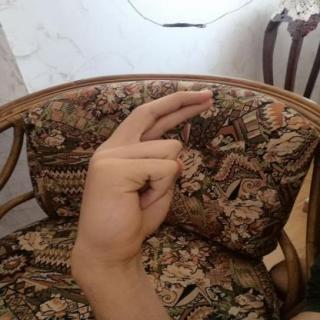ZAY: (62, 82, 225, 271)
